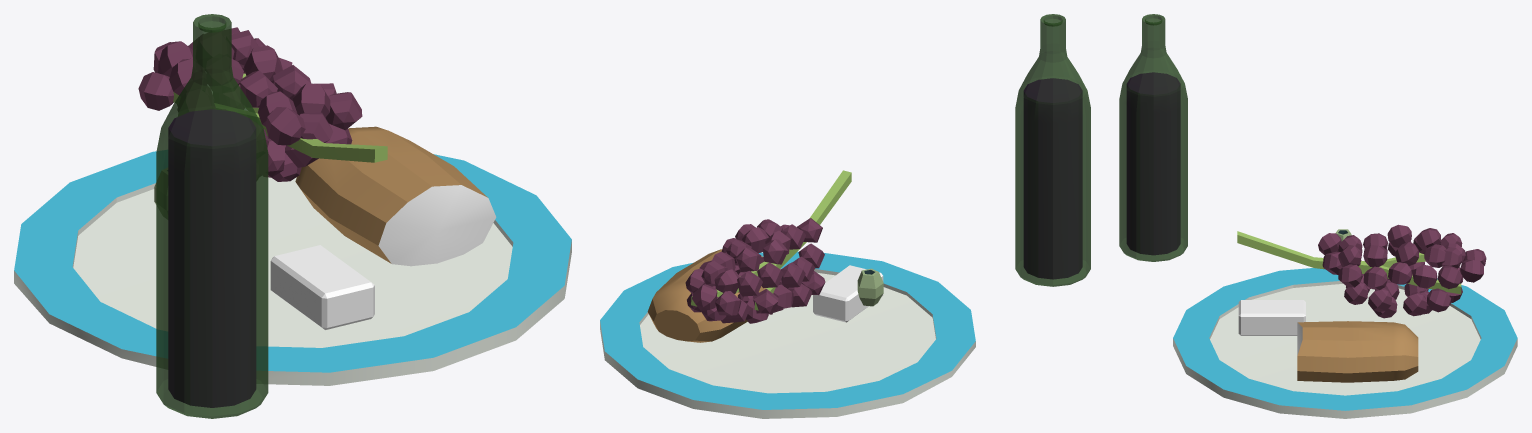
File: food.fbx
The picture shows the model from 3 angles, left to right: view 1: azimuth 30°, elevation 25°; view 2: azimuth 150°, elevation 25°; view 3: azimuth 270°, elevation 25°; orthographic projection. The views are drawn at different scales.
Parts seen in each view (by area): view 1: plate, bottle, wine, bread, feta, vine, grape39, grape10, grape35, grape16, grape7, grape17 (+11 smaller); view 2: plate, bottle, wine, bread, feta, vine, olive, grape37, grape36, grape6, grape10, grape (+4 smaller); view 3: plate, bottle, wine, bread, feta, vine, grape4, grape12, grape16, grape28, grape32, grape3 (+11 smaller).
Boxes of the visible parts, x1,y1,x2,y2 form: plate: [14, 150, 571, 385]; bottle: [156, 14, 268, 418]; wine: [168, 109, 255, 407]; bread: [295, 126, 496, 266]; feta: [270, 245, 374, 329]; vine: [173, 73, 387, 162]; grape39: [265, 107, 305, 145]; grape10: [206, 54, 243, 92]; grape35: [138, 72, 173, 110]; grape16: [325, 92, 362, 130]; grape7: [169, 58, 206, 95]; grape17: [293, 83, 330, 117]; plate: [600, 251, 975, 418]; bottle: [1015, 14, 1090, 286]; wine: [1024, 78, 1082, 279]; bread: [647, 249, 765, 342]; feta: [813, 265, 883, 322]; vine: [691, 170, 851, 310]; olive: [857, 268, 883, 306]; grape37: [692, 284, 717, 310]; grape36: [715, 291, 741, 315]; grape6: [735, 247, 761, 272]; grape10: [762, 239, 787, 264]; grape: [737, 271, 762, 296]; plate: [1173, 268, 1517, 418]; bottle: [1119, 14, 1187, 261]; wine: [1127, 72, 1180, 254]; bread: [1297, 321, 1418, 382]; feta: [1238, 300, 1305, 335]; vine: [1237, 231, 1461, 294]; grape4: [1412, 264, 1437, 288]; grape12: [1363, 266, 1387, 290]; grape16: [1338, 264, 1362, 287]; grape28: [1403, 292, 1426, 316]; grape32: [1427, 288, 1451, 312]; grape3: [1438, 266, 1462, 288].
Bounding box in the file's own units: 7.81 × 5.9 × 8.31.
Materials: 3 (1 with a texture image).
